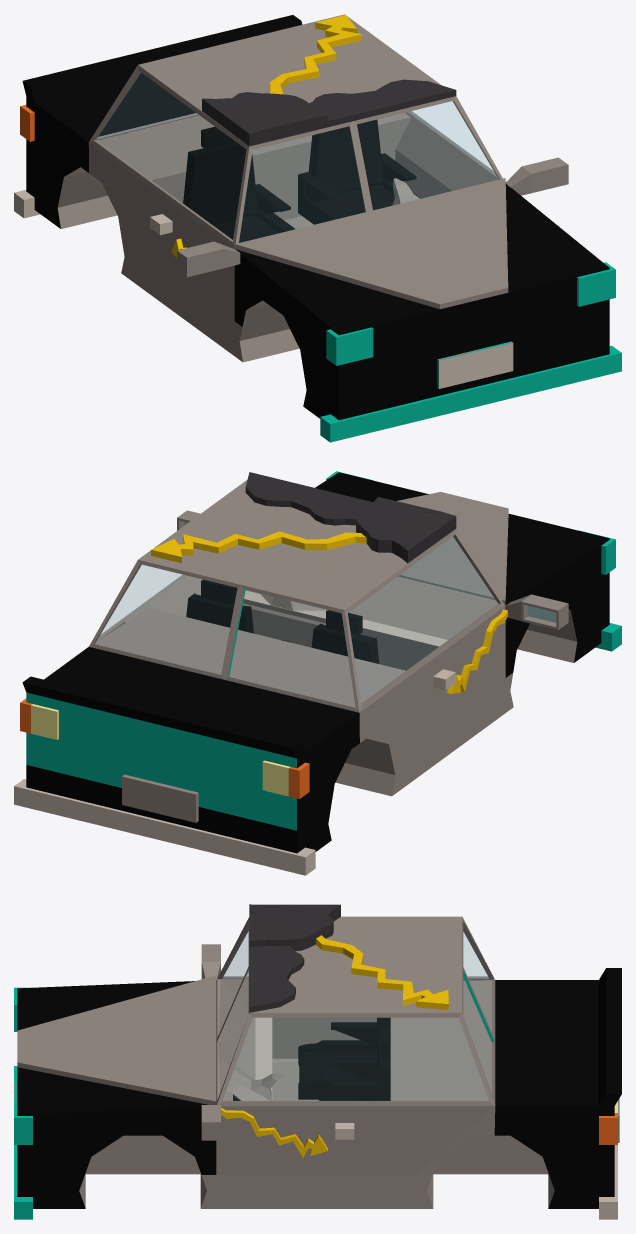
File: CarAll2.fbx
3 renders of one model, top to bottom at view 1: azimuth 30°, elevation 25°; view 2: azimuth 150°, elevation 25°; view 3: azimuth 270°, elevation 25°, orthographic. The views are drawn at different scales.
Visible parts, largest first — view 1: 2 Body; view 2: 2 Body; view 3: 2 Body.
Part boxes in pixels (x1,y1,x2,y2): 2 Body: [14, 14, 621, 442]; 2 Body: [14, 471, 621, 875]; 2 Body: [14, 904, 621, 1219].
Size of the model in its own units: 184 by 96.3 by 266.
Materials: 2 (1 with a texture image).
